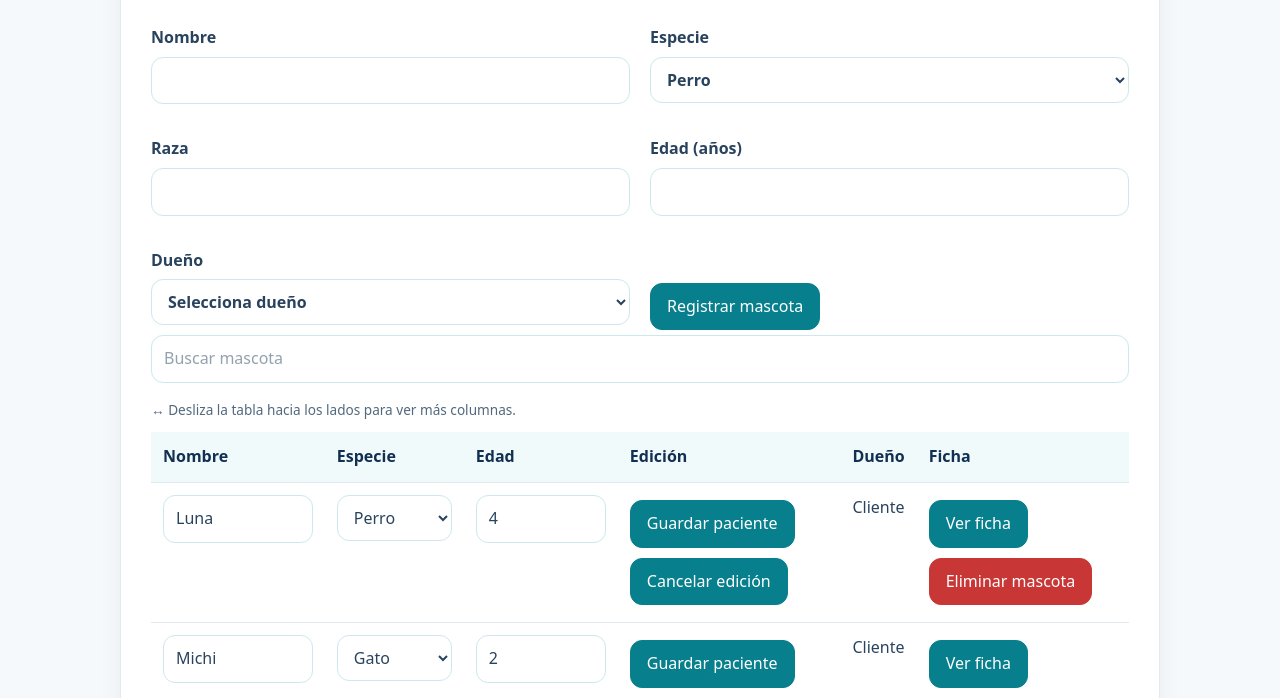
Scenario: Componentes e interacciones del módulo Daniel › filtra pacientes por nombre
(page scrolled)
Type "Michi" into the field with placeholder "Buscar mascota" at coordinates (640, 359), box top-left (151, 335), bottom-right (1129, 383)
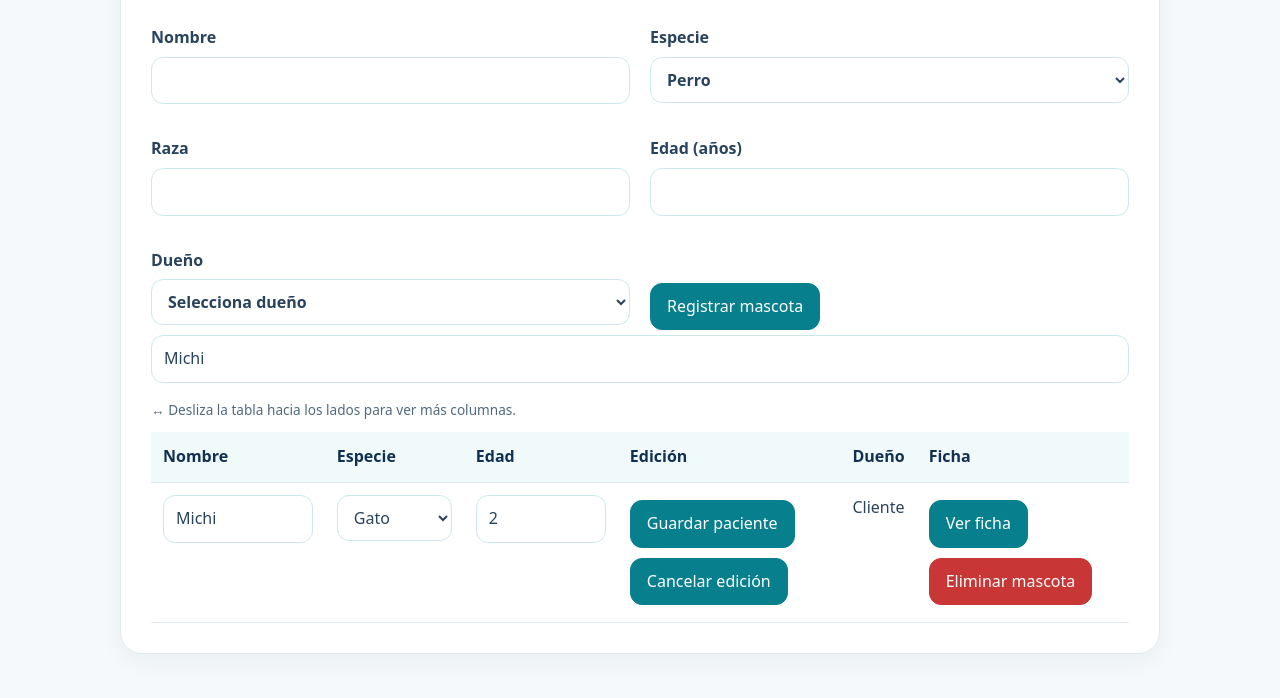
Expected: the field named "Mascota 2" holds "Michi", top-left (163, 495), bottom-right (313, 543)
Expected: the number of rows is 2, top-left (151, 432), bottom-right (1129, 483); top-left (151, 483), bottom-right (1129, 623)
